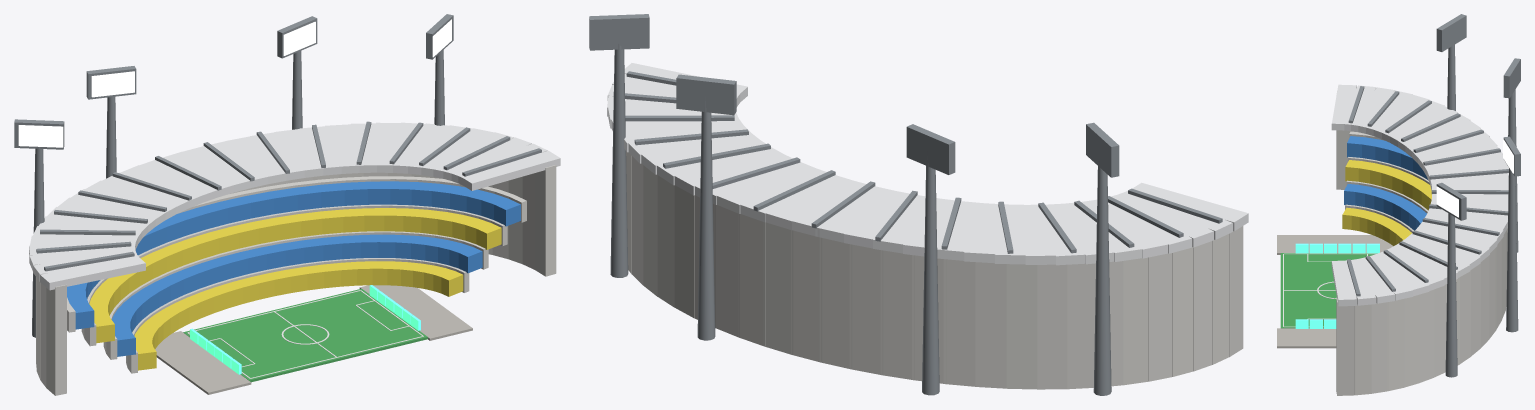
Rendered from SM_Stage_Maracana_BR.glb.
The picture shows the model from 3 angles, left to right: view 1: azimuth 30°, elevation 25°; view 2: azimuth 150°, elevation 25°; view 3: azimuth 270°, elevation 25°; orthographic projection. The views are drawn at different scales.
Parts seen in each view (by area): view 1: SM_Stage_Maracana_BR; view 2: SM_Stage_Maracana_BR; view 3: SM_Stage_Maracana_BR.
Part boxes in pixels (left/top/right/bottom): SM_Stage_Maracana_BR: left=14, top=14, right=560, bottom=395; SM_Stage_Maracana_BR: left=589, top=14, right=1248, bottom=395; SM_Stage_Maracana_BR: left=1277, top=14, right=1520, bottom=395.
Size of the model in its own units: 71.49 by 28.83 by 34.21.
